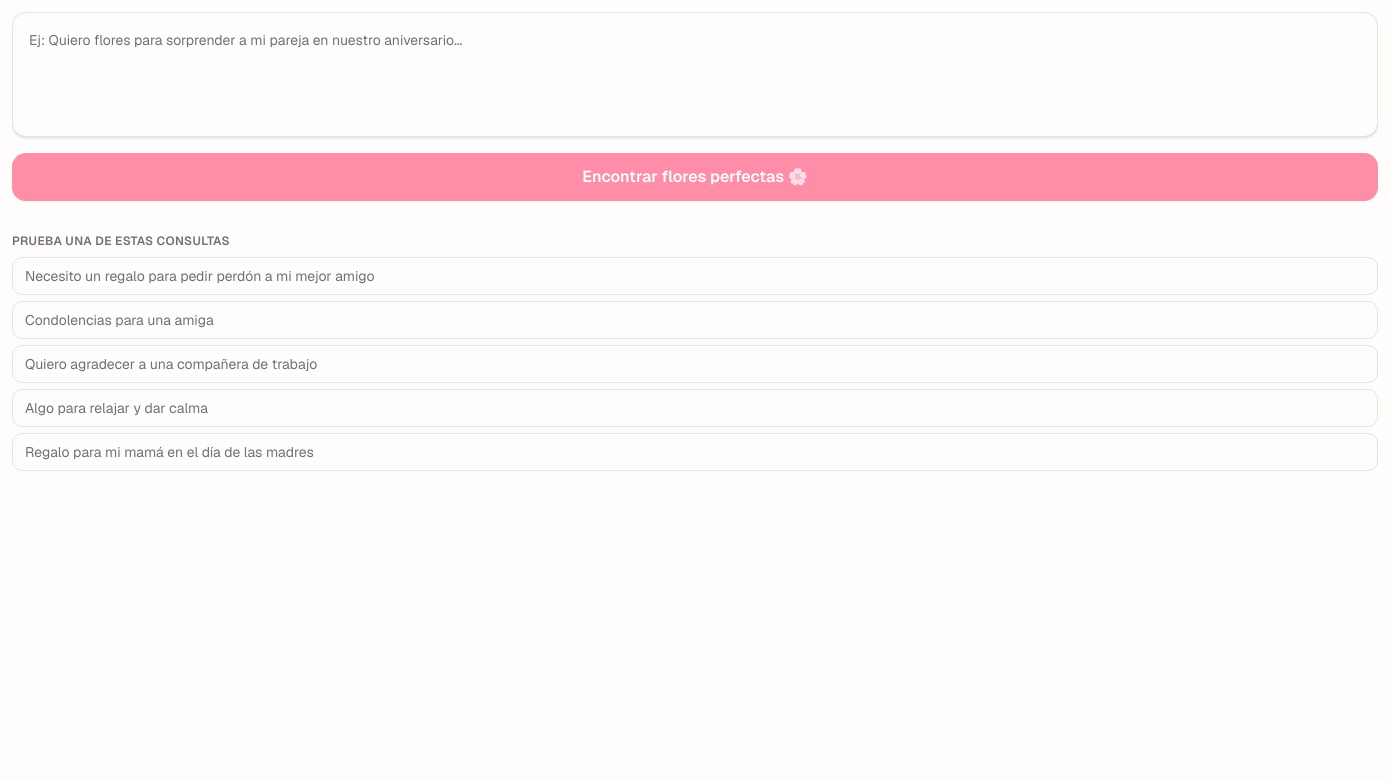
Test: RecomendadorForm › no muestra aviso ámbar cuando modo es 'python-nlp'
Replace the text in the text box with "flores" at (695, 74), box [12,12,1378,137]
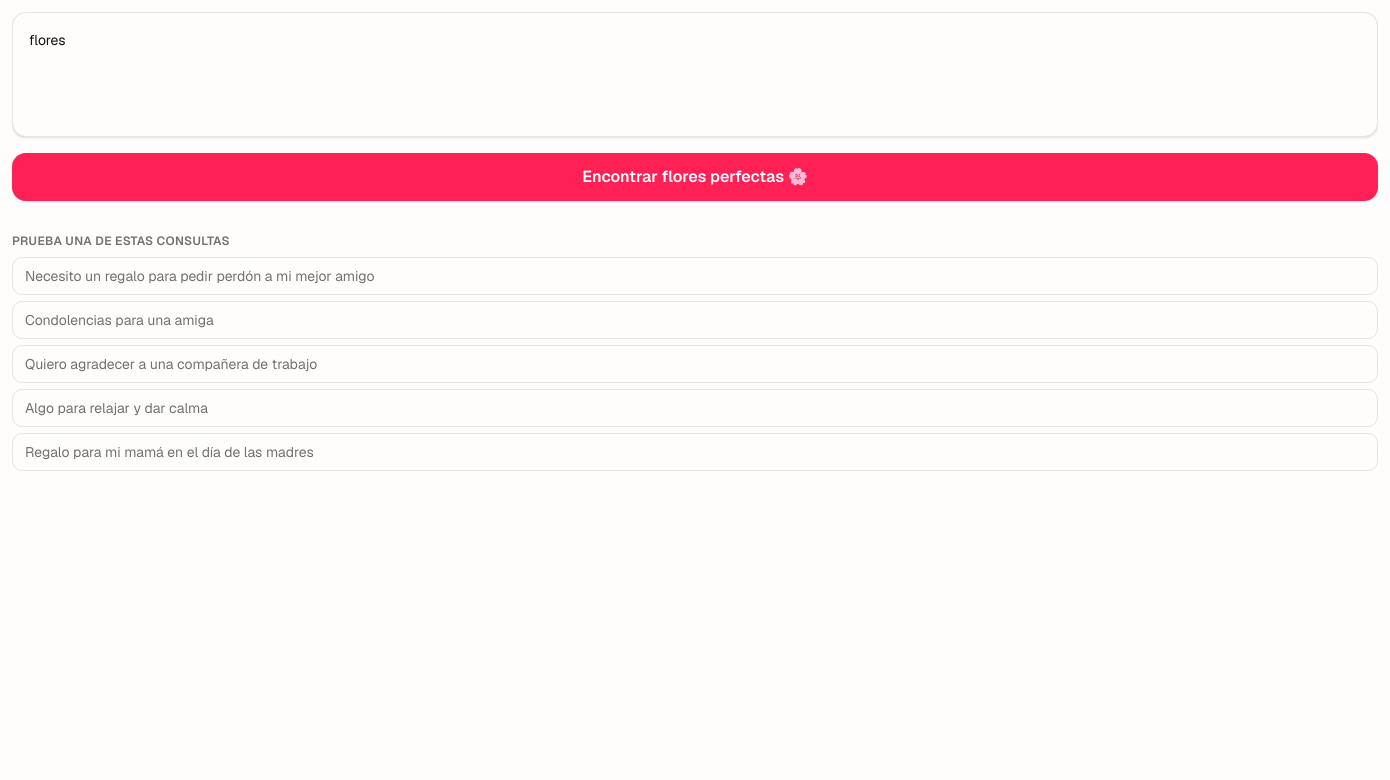
Click the button "Encontrar flores perfectas 🌸" at (695, 177), box [12,153,1378,201]
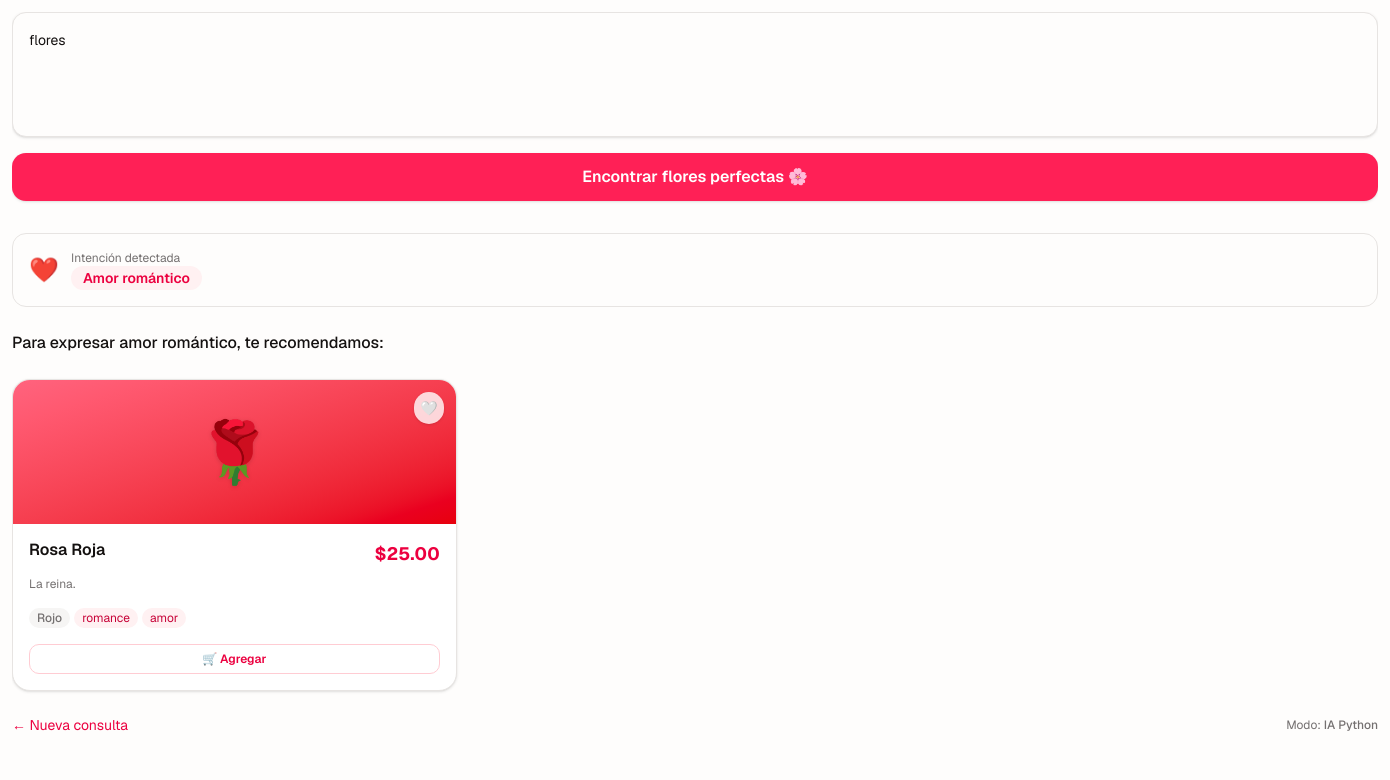
Expected: the heading "Rosa Roja" is shown, [29,540,105,560]
